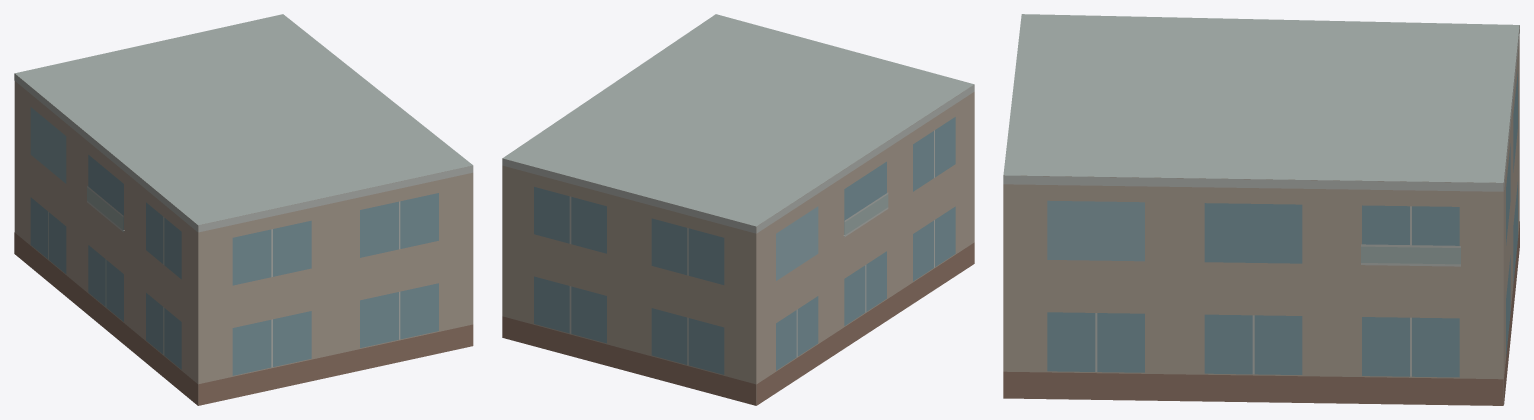
The model's file is survey-upis-32657688.glb.
3 renders of one model, left to right at view 1: azimuth 30°, elevation 25°; view 2: azimuth 150°, elevation 25°; view 3: azimuth 270°, elevation 25°, orthographic. The views are drawn at different scales.
Visible parts, largest first — view 1: survey-upis-32657688.tmp; view 2: survey-upis-32657688.tmp; view 3: survey-upis-32657688.tmp.
Part boxes in pixels (box(x1,y1,x2,y2)): survey-upis-32657688.tmp: box(14, 14, 473, 405); survey-upis-32657688.tmp: box(502, 14, 974, 405); survey-upis-32657688.tmp: box(1003, 14, 1519, 405).
Bounding box in the file's own units: 9.92 × 6.1 × 12.81.
